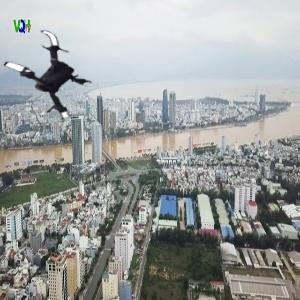drone: (2, 29, 104, 131)
